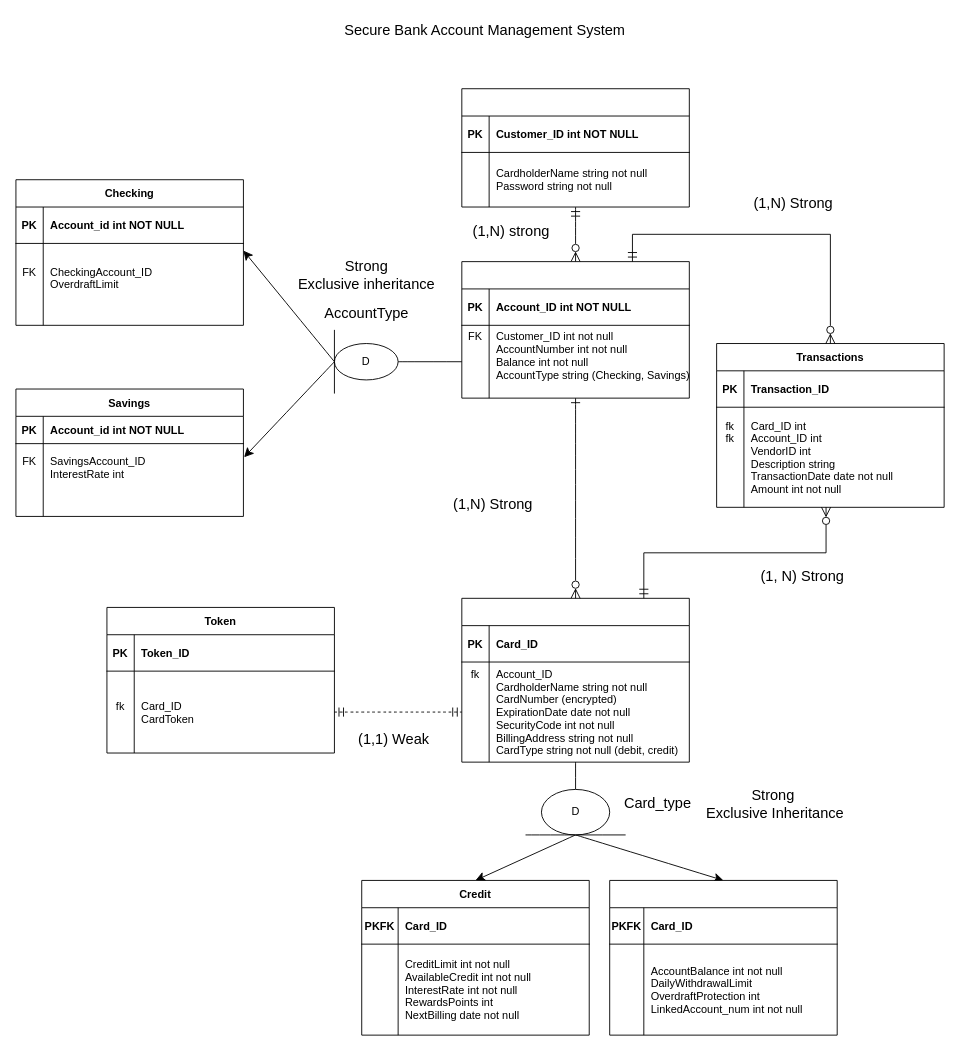
Some shapes in this 960 by 1051 pixel diagram are drawn without their labels. The shapes that lost their labels are listed below. From the top down, each one's box as (x1, y1, x2, y2) in pixels, then its label:
(461, 88, 689, 207): Customers
(461, 261, 689, 398): Accounts
(461, 597, 689, 762): Cards
(609, 880, 837, 1035): Debit
